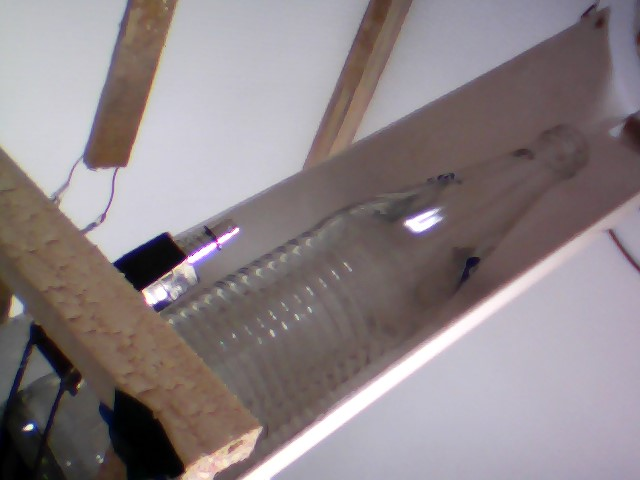vidrio: (190, 119, 597, 448)
